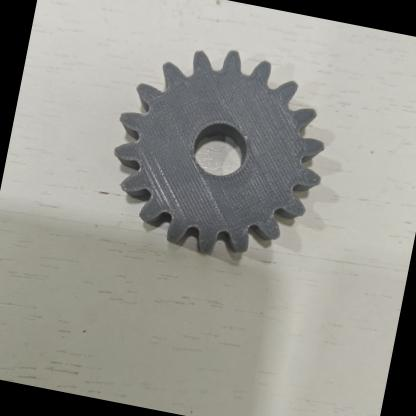gear: (84, 20, 354, 292)
